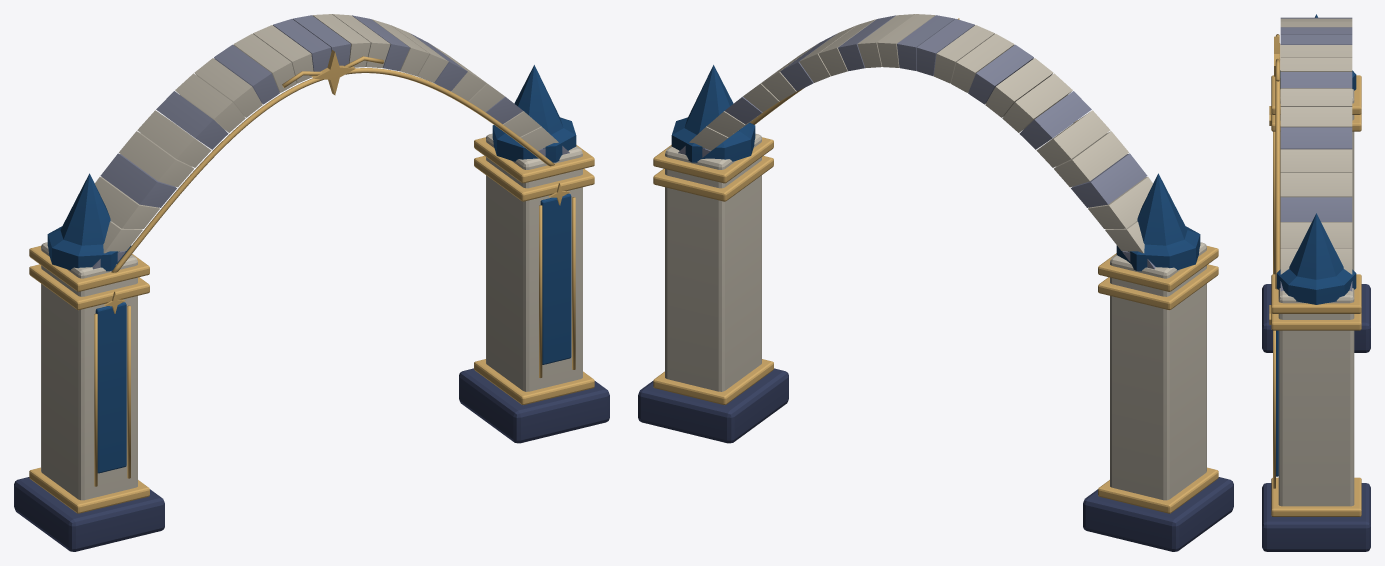
File: skybridge_gateway.glb
The picture shows the model from 3 angles, left to right: view 1: azimuth 30°, elevation 25°; view 2: azimuth 150°, elevation 25°; view 3: azimuth 270°, elevation 25°; orthographic projection. The views are drawn at different scales.
Parts seen in each view (by area): view 1: skybridge_gateway; view 2: skybridge_gateway; view 3: skybridge_gateway.
Boxes of the visible parts, x1,y1,x2,y2 form: skybridge_gateway: (14, 14, 609, 551); skybridge_gateway: (638, 14, 1233, 551); skybridge_gateway: (1262, 14, 1370, 551).
Bounding box in the file's own units: 6.2 × 4.76 × 1.18.
